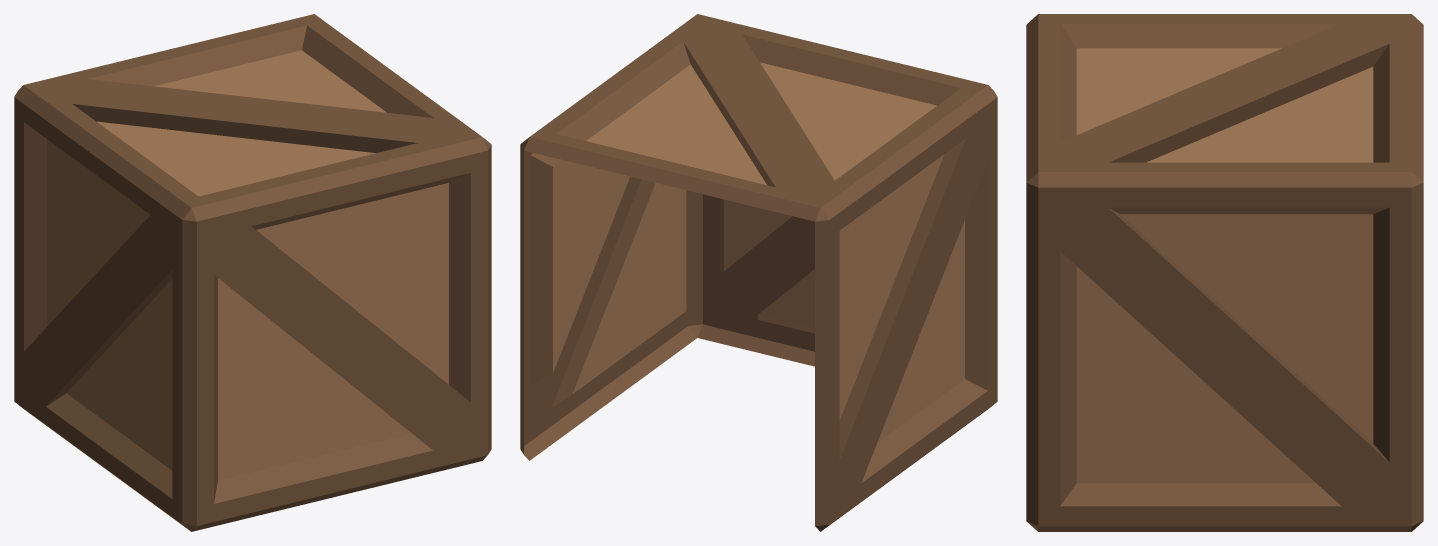
File: BigBox.fbx
3 renders of one model, left to right at view 1: azimuth 30°, elevation 25°; view 2: azimuth 150°, elevation 25°; view 3: azimuth 270°, elevation 25°, orthographic. The views are drawn at different scales.
Parts seen in each view (by area): view 1: New BigBox; view 2: New BigBox; view 3: New BigBox.
Part boxes in pixels (box(x1,y1,x2,y2)): New BigBox: box(14, 14, 491, 531); New BigBox: box(520, 14, 997, 531); New BigBox: box(1026, 14, 1423, 531).
Size of the model in its own units: 100 by 100 by 100.
